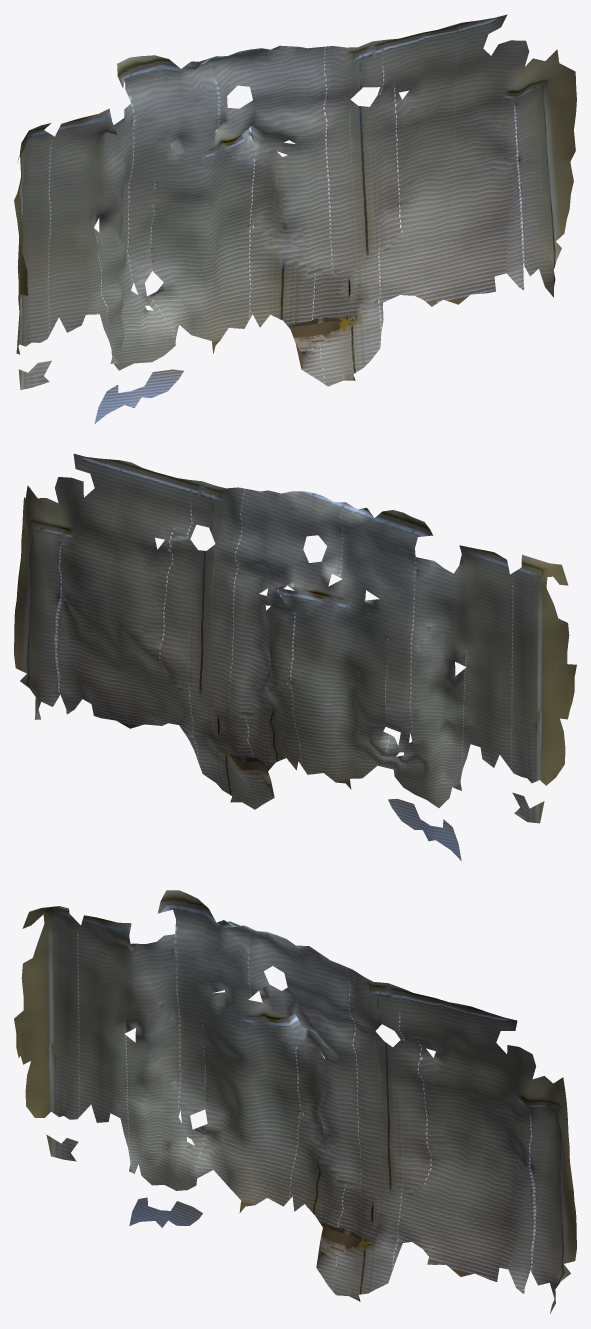
File: mesh_gen.obj
The picture shows the model from 3 angles, top to bottom: view 1: azimuth 30°, elevation 25°; view 2: azimuth 150°, elevation 25°; view 3: azimuth 330°, elevation 25°; orthographic projection. The views are drawn at different scales.
Size of the model in its own units: 3.24 by 1.97 by 0.4406.
Materials: 1 (1 with a texture image).
